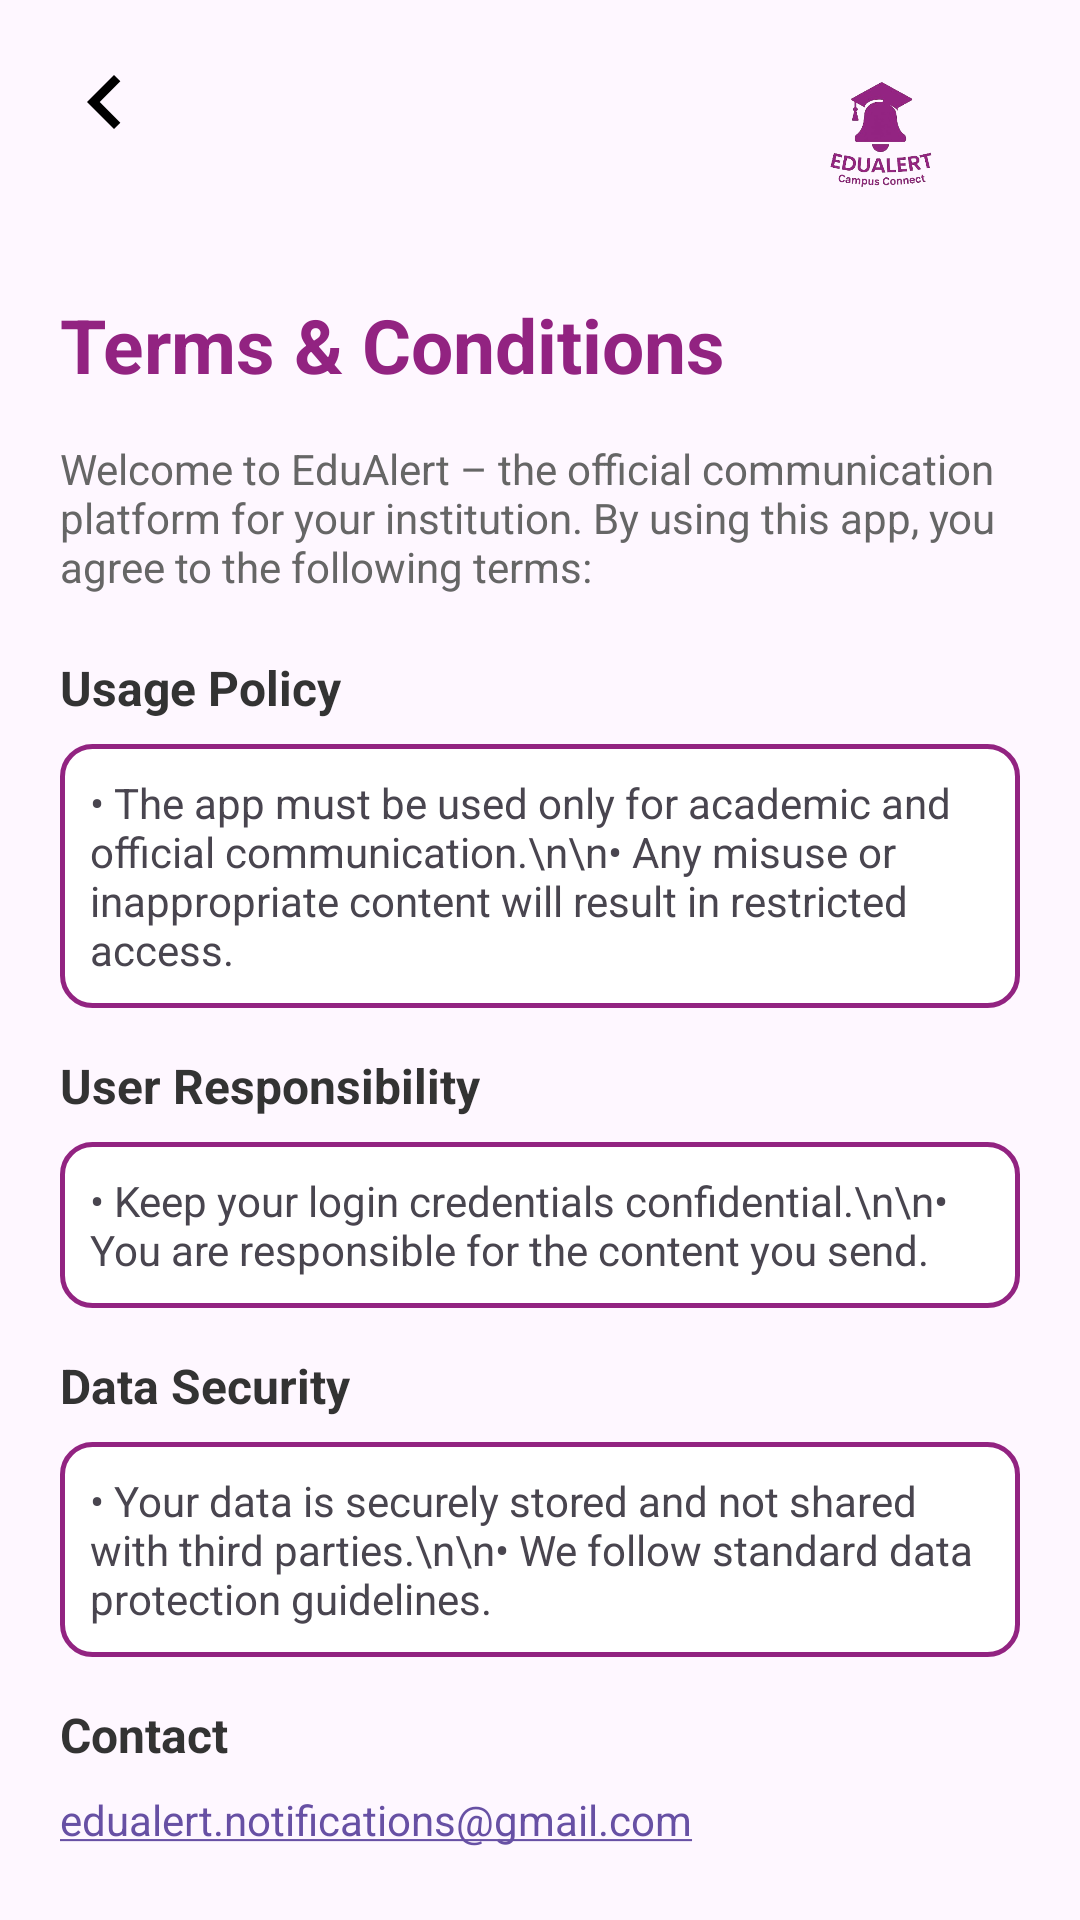

Icon click points for this 1080w x 1920h phone screenshot, format point (x, y):
Back: point (104, 102)
